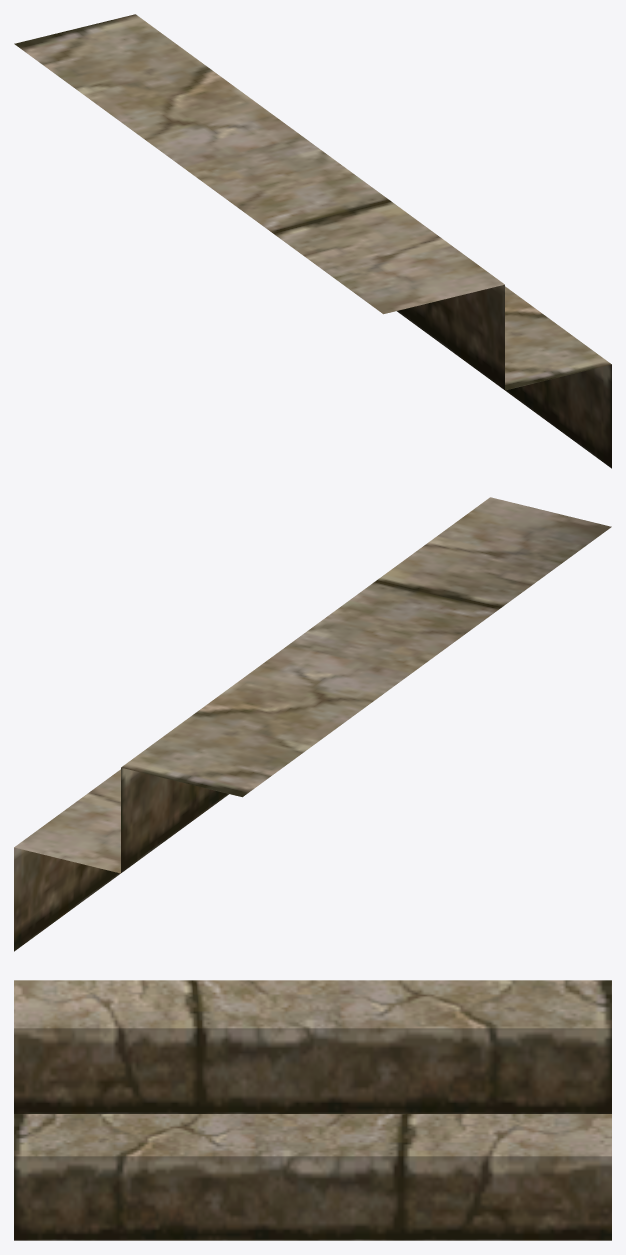
File: OVERHILL_A_01_OBJECT225.fbx
The picture shows the model from 3 angles, top to bottom: view 1: azimuth 30°, elevation 25°; view 2: azimuth 150°, elevation 25°; view 3: azimuth 270°, elevation 25°; orthographic projection. The views are drawn at different scales.
Visible parts, largest first — view 1: OVERHILL_A_01_OBJECT225; view 2: OVERHILL_A_01_OBJECT225; view 3: OVERHILL_A_01_OBJECT225.
Part boxes in pixels (bbox=[...]): OVERHILL_A_01_OBJECT225: bbox=[14, 14, 611, 468]; OVERHILL_A_01_OBJECT225: bbox=[14, 497, 611, 951]; OVERHILL_A_01_OBJECT225: bbox=[14, 980, 611, 1240].
Bounding box in the file's own units: 8552 × 7518 × 23945.
1 material, 1 textured.
